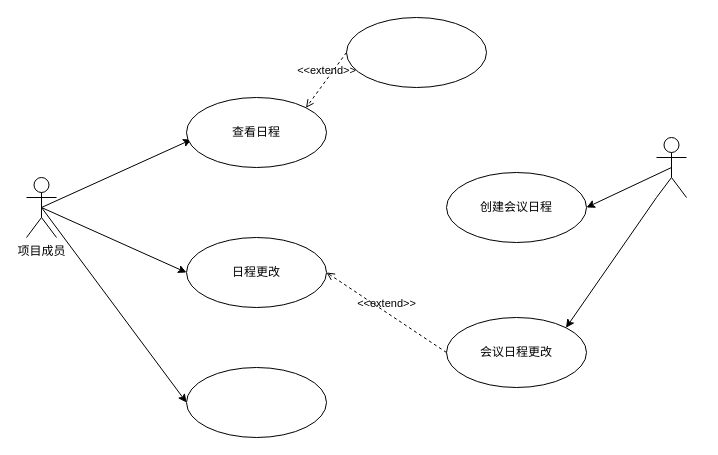
Some shapes in this 718 by 455 pixel diagram are drawn without their labels. Each missing label, with the centre of its shape:
创建日程: (256,402)
查看日程详细信息: (416,52)
项目管理员: (671,167)
